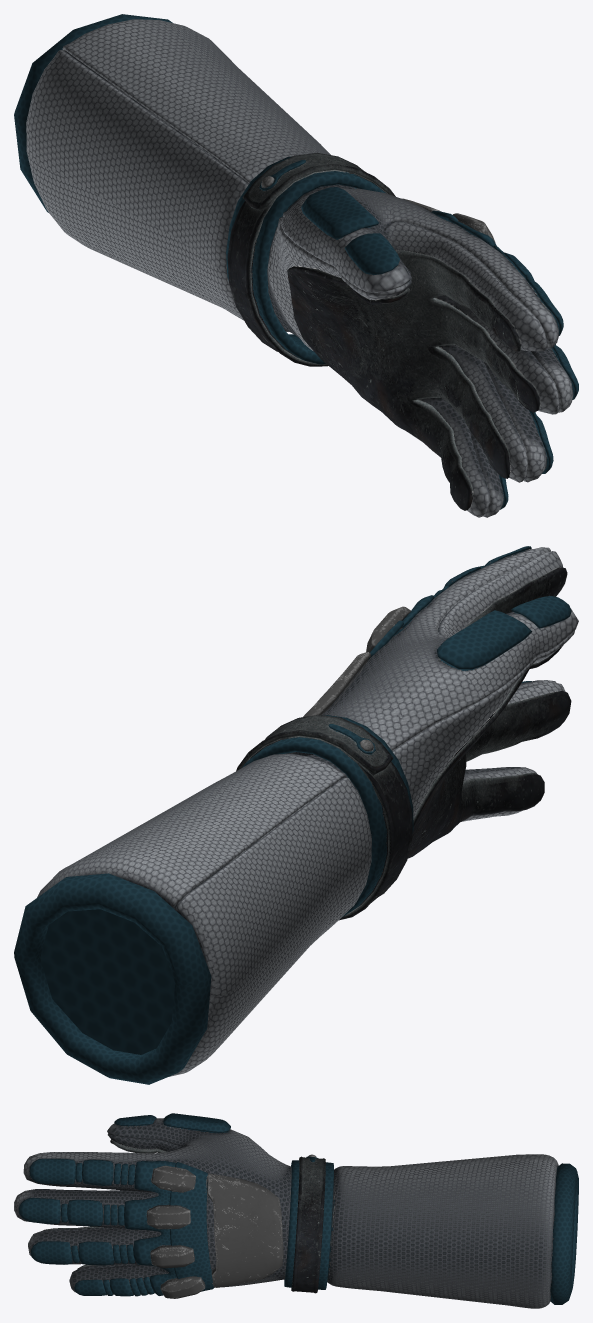
File: LeftHand.fbx
3 renders of one model, top to bottom at view 1: azimuth 30°, elevation 25°; view 2: azimuth 150°, elevation 25°; view 3: azimuth 270°, elevation 25°, orthographic. The views are drawn at different scales.
Parts seen in each view (by area): view 1: LeftHand; view 2: LeftHand; view 3: LeftHand.
Boxes of the visible parts, bbox=[...] form: LeftHand: bbox=[14, 14, 578, 517]; LeftHand: bbox=[14, 546, 578, 1084]; LeftHand: bbox=[14, 1113, 578, 1308].
Bounding box in the file's own units: 11.18 × 13.26 × 41.27.
Materials: 1 (1 with a texture image).
